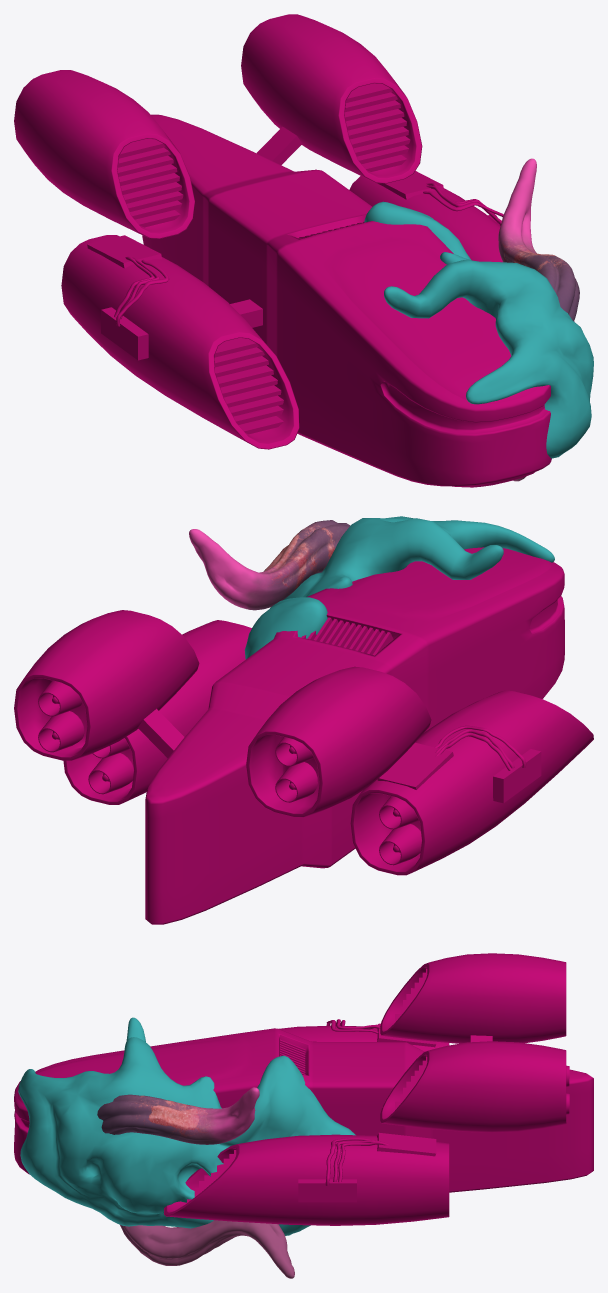
Rendered from Alien_Ship_B.fbx.
The picture shows the model from 3 angles, top to bottom: view 1: azimuth 30°, elevation 25°; view 2: azimuth 150°, elevation 25°; view 3: azimuth 270°, elevation 25°; orthographic projection. The views are drawn at different scales.
Visible parts, largest first — view 1: polySurface113, PM3D_Sphere3D1_4; view 2: polySurface113, PM3D_Sphere3D1_4; view 3: polySurface113, PM3D_Sphere3D1_4, PM3D_Sphere3D1_3.
Part boxes in pixels (left/top/right/bottom): polySurface113: left=14, top=14, right=593, bottom=487; PM3D_Sphere3D1_4: left=498, top=158, right=579, bottom=320; polySurface113: left=14, top=516, right=593, bottom=924; PM3D_Sphere3D1_4: left=189, top=520, right=350, bottom=610; polySurface113: left=14, top=953, right=593, bottom=1235; PM3D_Sphere3D1_4: left=97, top=1087, right=259, bottom=1144; PM3D_Sphere3D1_3: left=120, top=1220, right=294, bottom=1278.
Bounding box in the file's own units: 1522 × 1024 × 2422.
